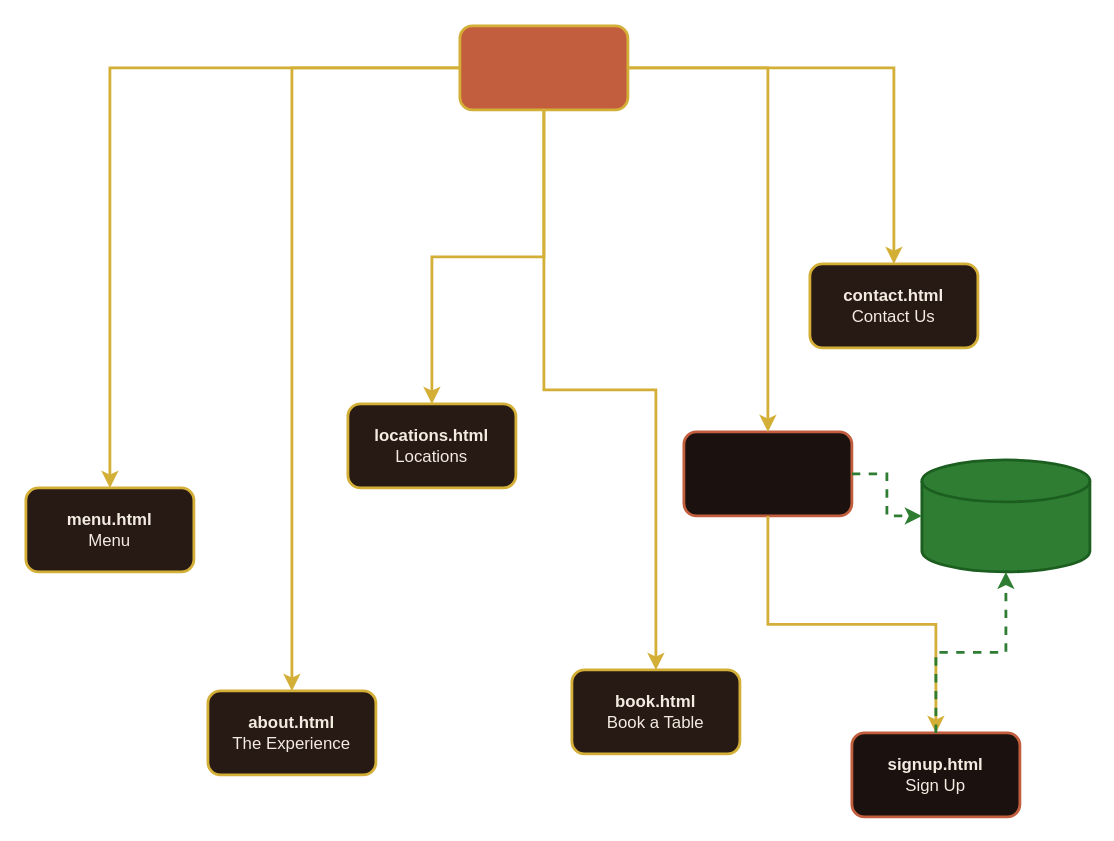
Some shapes in this 1114 by 841 pixel diagram are drawn without their labels. The box of each missing label's shape, as (x1, y1, x2, y2) in pixels:
index.html Home: (458, 24, 629, 111)
signin.html Sign In: (682, 430, 853, 517)
Supabase Backend & Auth: (920, 458, 1091, 573)
